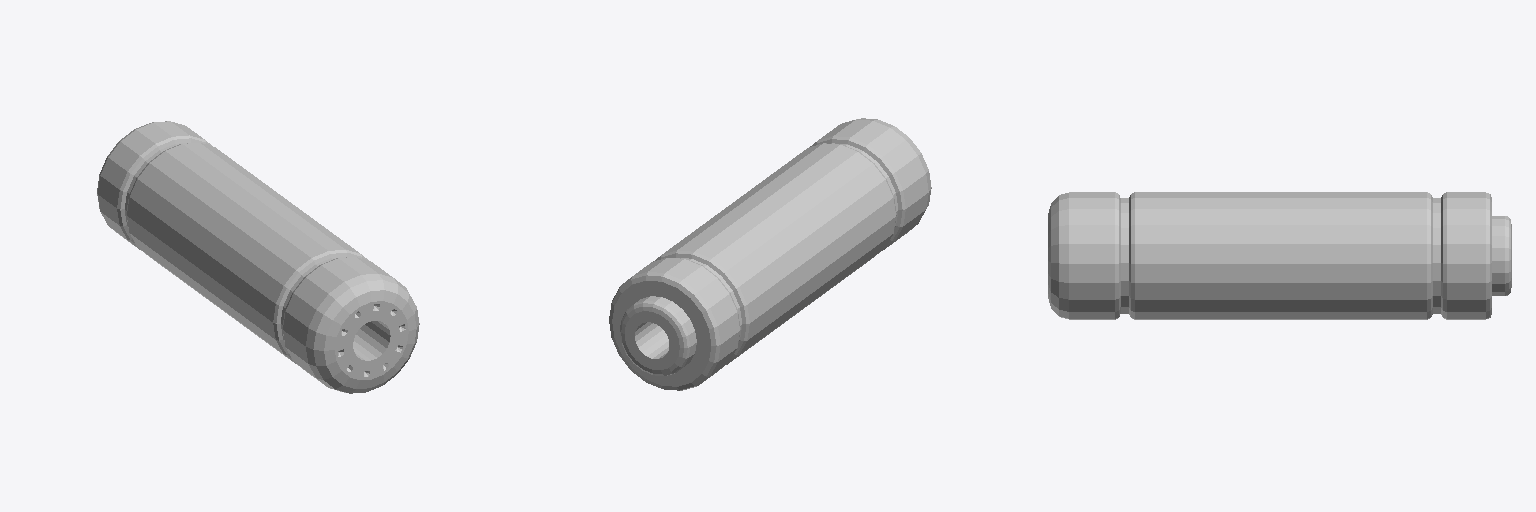
File: Glock_Silencer.obj
3 views of the same model, side by side, from view 1: azimuth 30°, elevation 25°; view 2: azimuth 150°, elevation 25°; view 3: azimuth 270°, elevation 25° (orthographic).
Parts seen in each view (by area): view 1: Glock_silencer; view 2: Glock_silencer; view 3: Glock_silencer.
Part boxes in pixels (left/top/right/bottom): Glock_silencer: left=97, top=121, right=419, bottom=393; Glock_silencer: left=609, top=118, right=931, bottom=390; Glock_silencer: left=1048, top=192, right=1511, bottom=319.
Size of the model in its own units: 0.0366 by 0.0366 by 0.132.